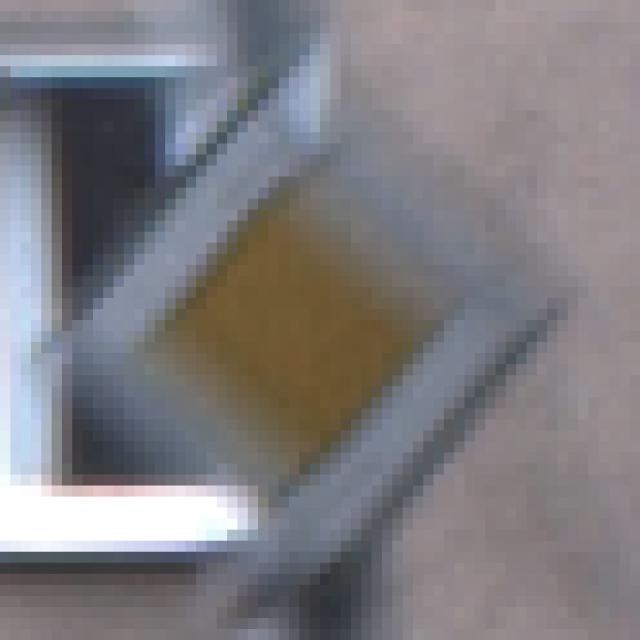Main Road: (53, 67, 590, 586)
